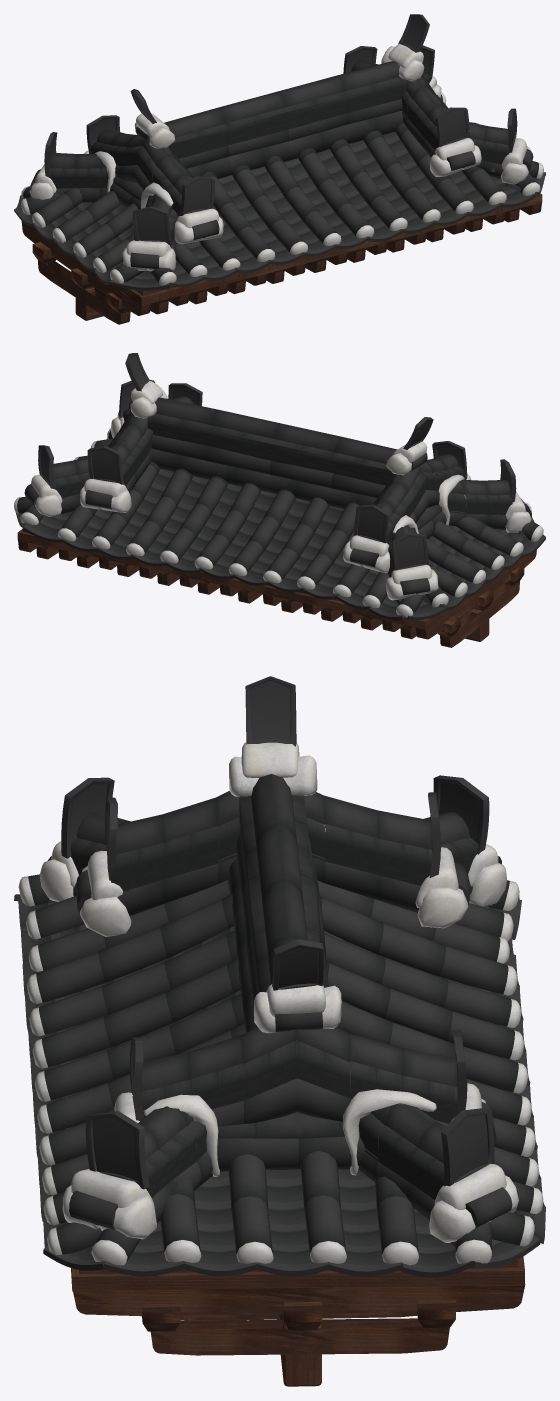
Rendered from SM_byeolju_SmallGate.fbx.
3 views of the same model, one above another, from view 1: azimuth 30°, elevation 25°; view 2: azimuth 150°, elevation 25°; view 3: azimuth 270°, elevation 25° (orthographic). The views are drawn at different scales.
Visible parts, largest first — view 1: SM_byeolju_SmallGate; view 2: SM_byeolju_SmallGate; view 3: SM_byeolju_SmallGate.
Part boxes in pixels (x1,y1,x2,y2): SM_byeolju_SmallGate: (14,14,545,324); SM_byeolju_SmallGate: (14,353,545,647); SM_byeolju_SmallGate: (14,676,545,1386).
Bounding box in the file's own units: 401 × 226 × 185.
2 materials, 2 textured.
